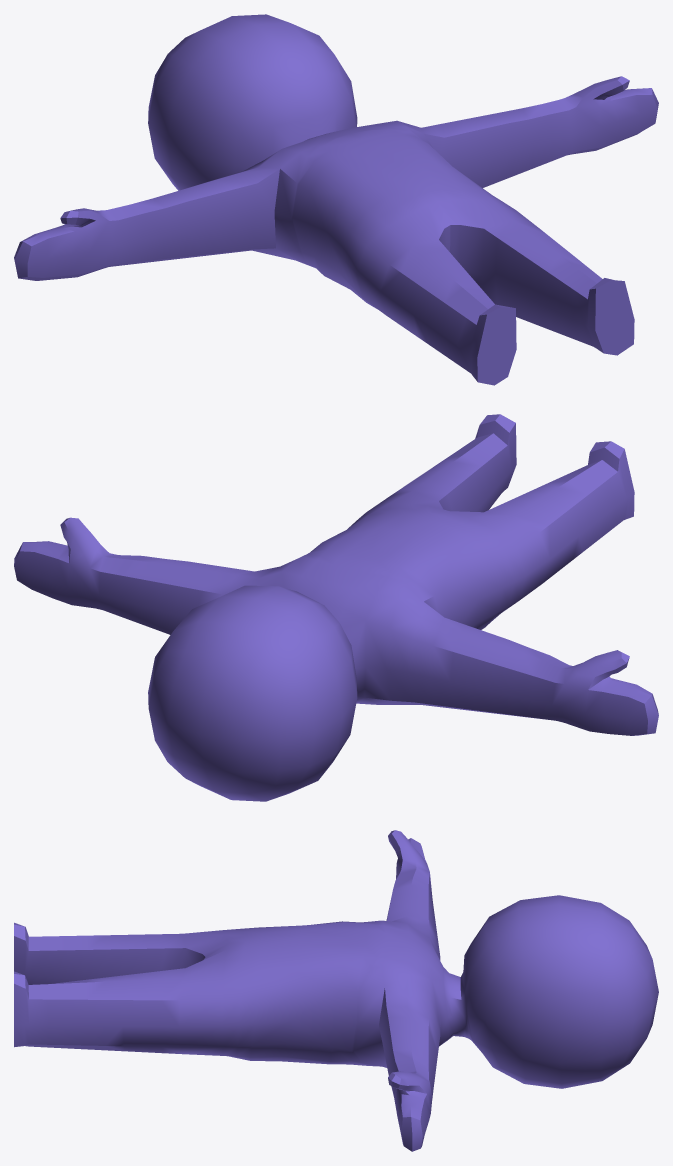
File: BaseModel.obj
The picture shows the model from 3 angles, top to bottom: view 1: azimuth 30°, elevation 25°; view 2: azimuth 150°, elevation 25°; view 3: azimuth 270°, elevation 25°; orthographic projection. The views are drawn at different scales.
Parts seen in each view (by area): view 1: Main Mesh; view 2: Main Mesh; view 3: Main Mesh.
Part boxes in pixels (x1,y1,x2,y2): Main Mesh: (14, 14, 658, 385); Main Mesh: (14, 414, 658, 801); Main Mesh: (14, 830, 658, 1151).
Size of the model in its own units: 4.59 by 1.31 by 4.37.
